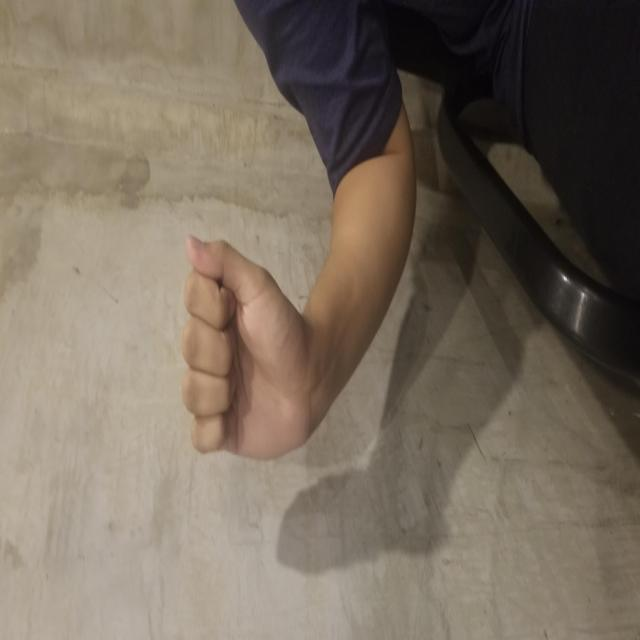A: (178, 180, 405, 309)
